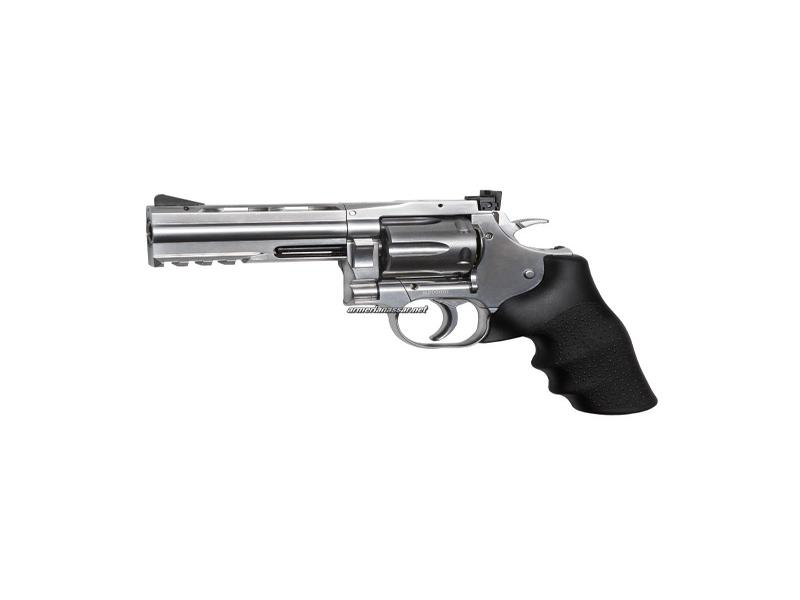Revolver: (140, 181, 662, 385)
